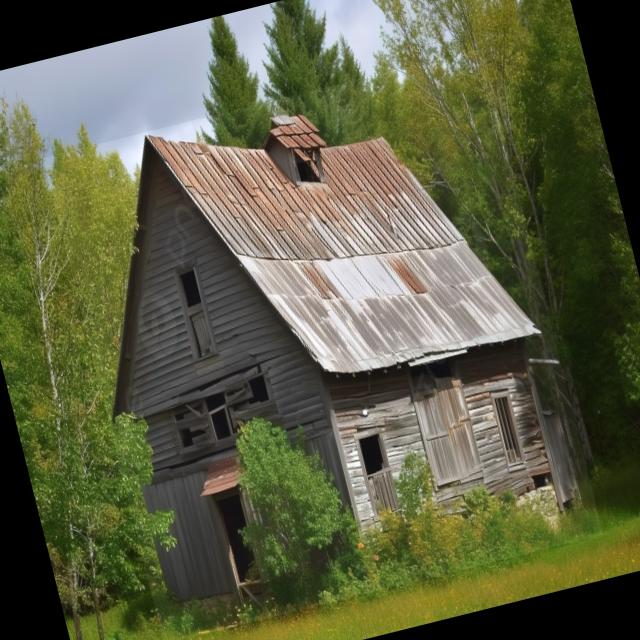House: (42, 47, 603, 640)
